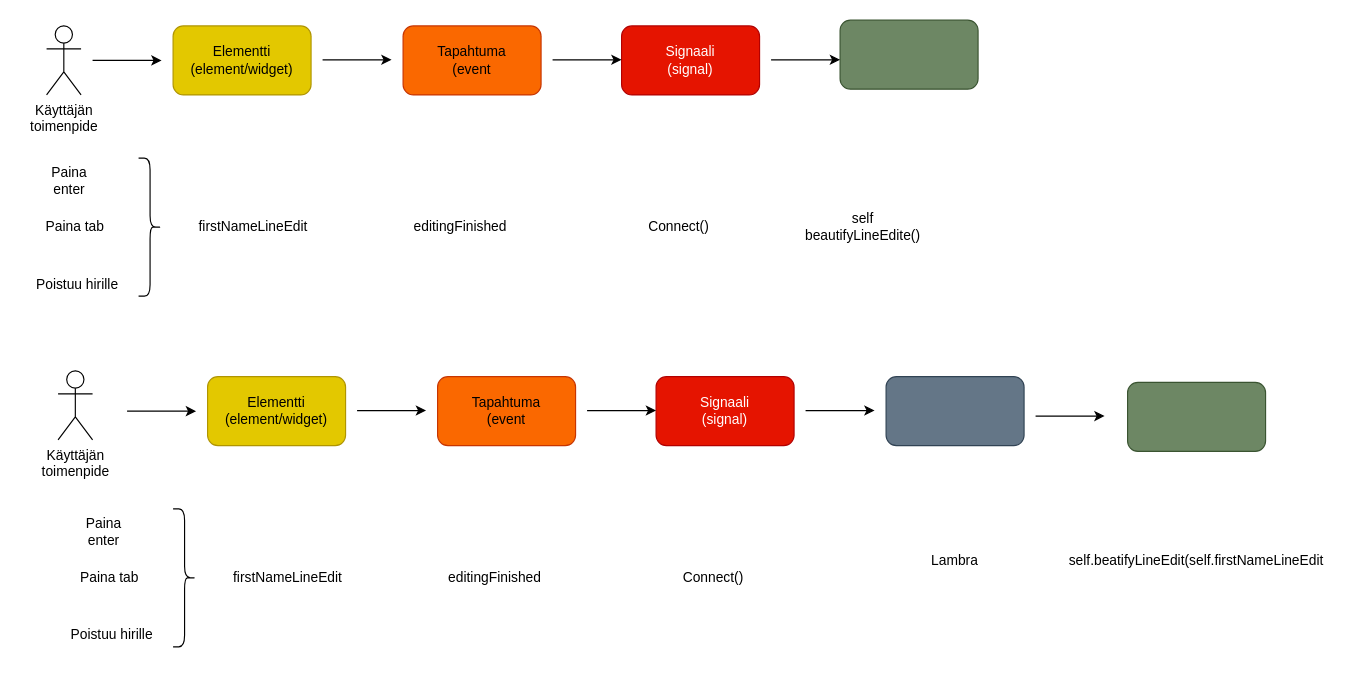
Image size: 1354x684. Some labels were removed from this diagram. Here are the shapes that lost their labels. From the top down, the box of each, then its label:
(839, 19, 978, 89): Slotti (slot)
(885, 375, 1024, 446): Välittämetodi (Lambda-funktio)
(1126, 381, 1266, 451): Argumentteja käyttävä metodi
